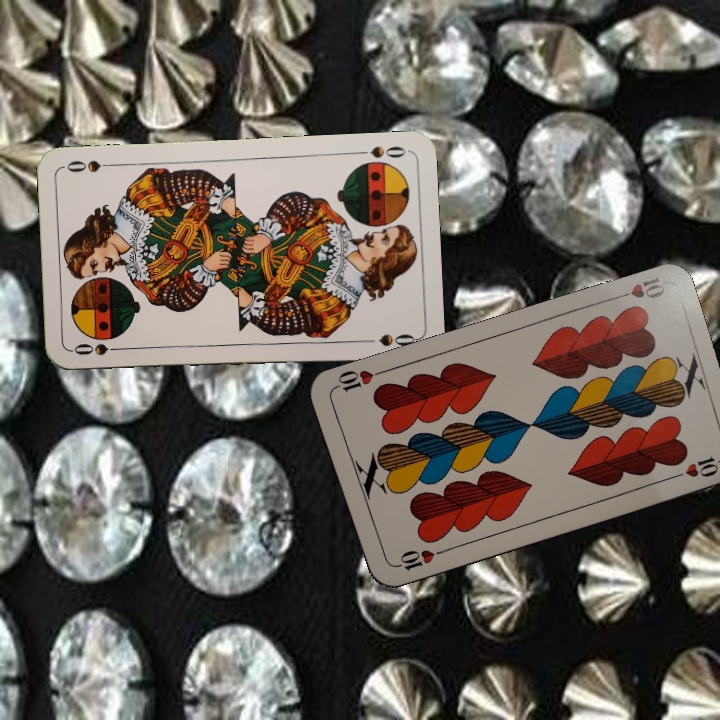H10: (608, 273, 668, 303), (389, 545, 447, 573)
SO: (70, 339, 129, 358), (351, 142, 408, 161)
